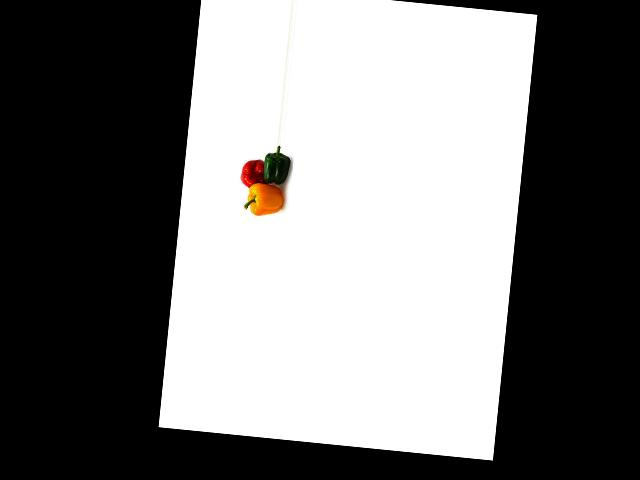bell_pepper: (257, 147, 291, 192)
